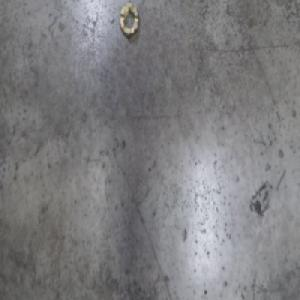Nut: (119, 2, 139, 39)
